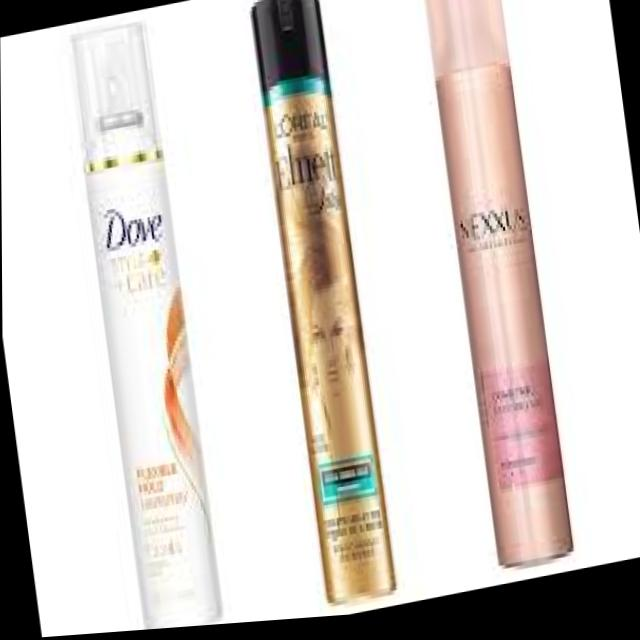Botella: (59, 6, 227, 636), (240, 0, 406, 611)
